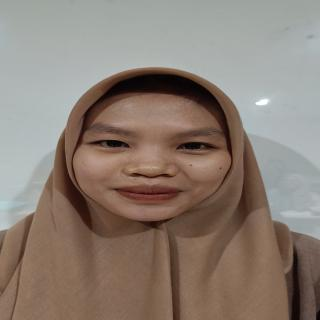Senang: (68, 86, 235, 227)
